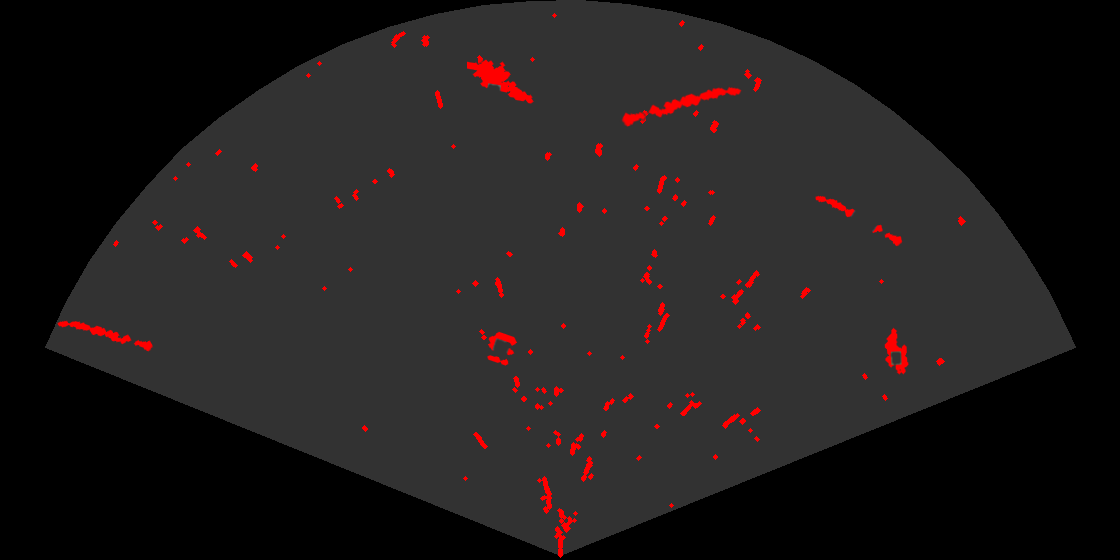AUV: (883, 326, 910, 376)
ball: (486, 330, 519, 367)
chain: (619, 85, 743, 128), (814, 194, 904, 248), (56, 319, 155, 353)
frogman: (467, 58, 535, 105)
